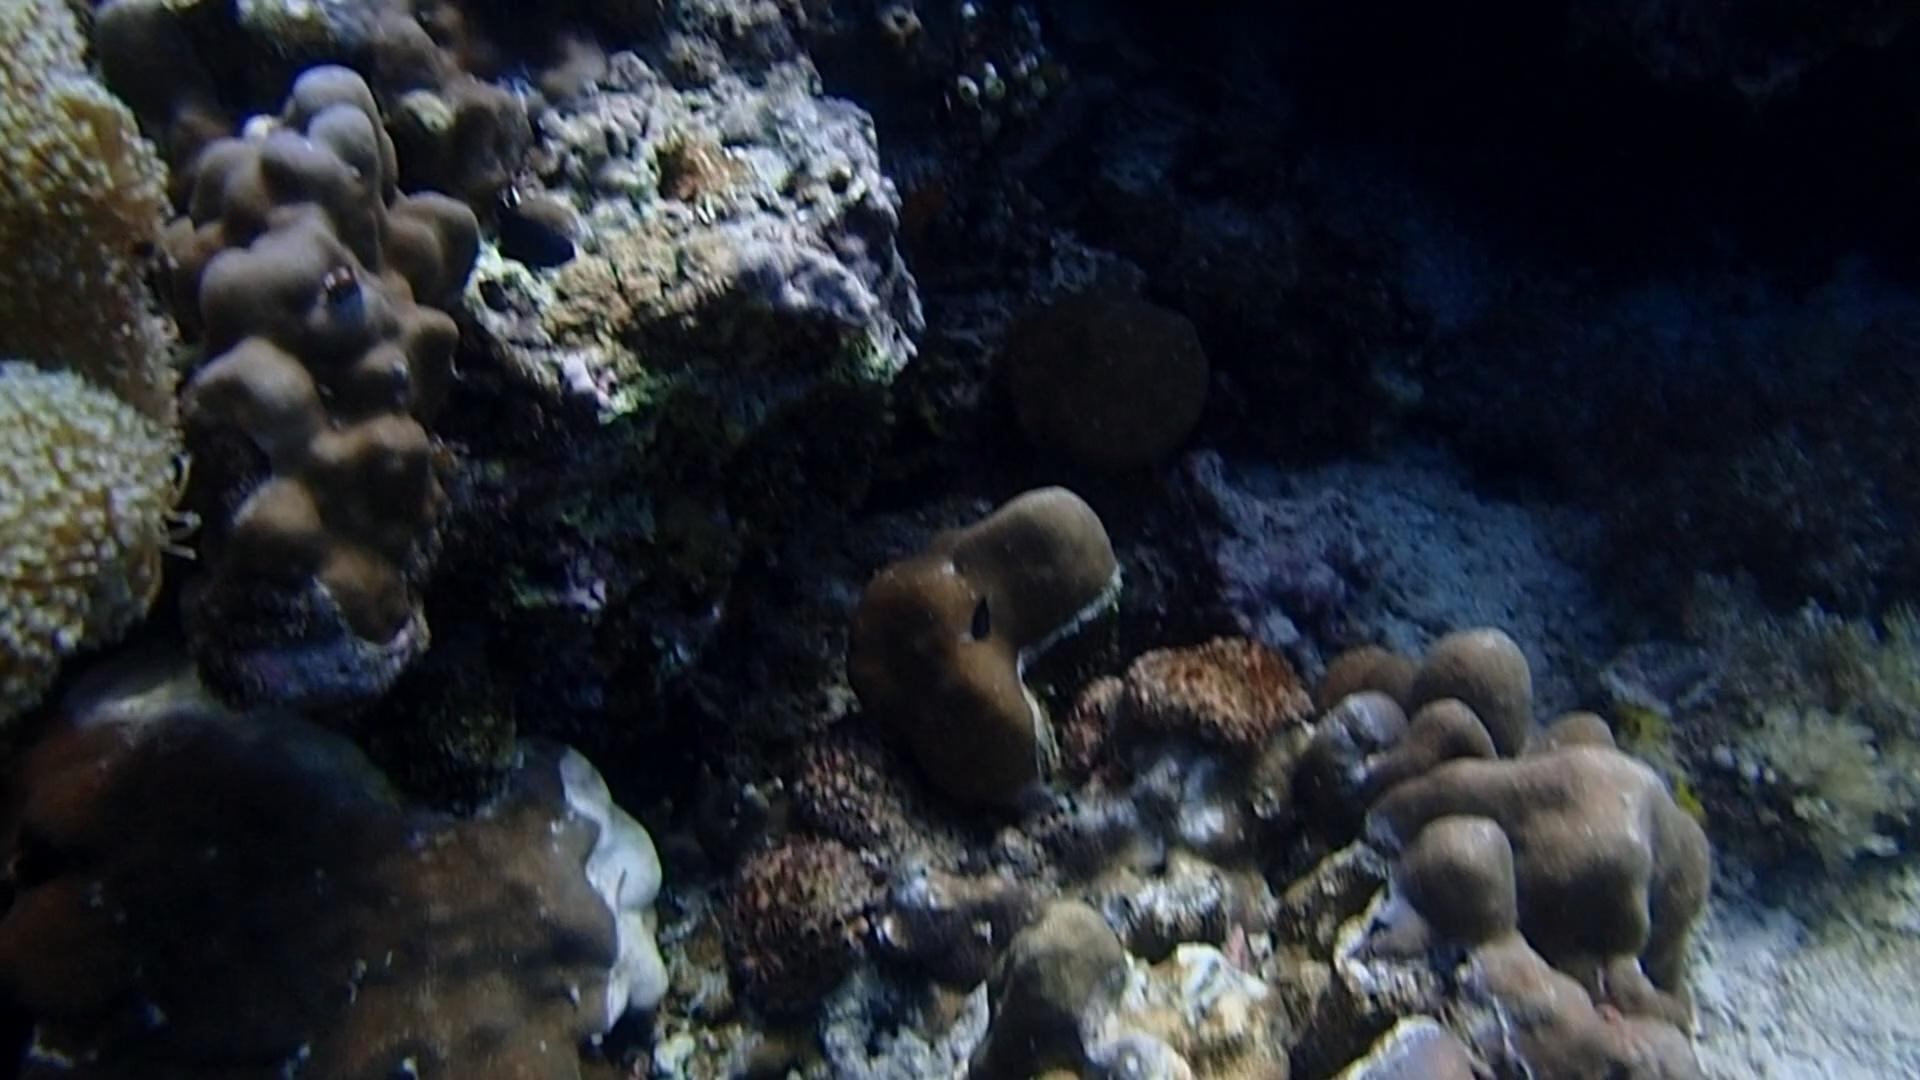Dark Fish: (477, 189, 582, 289)
Yellow Tail: (957, 587, 1009, 653)
